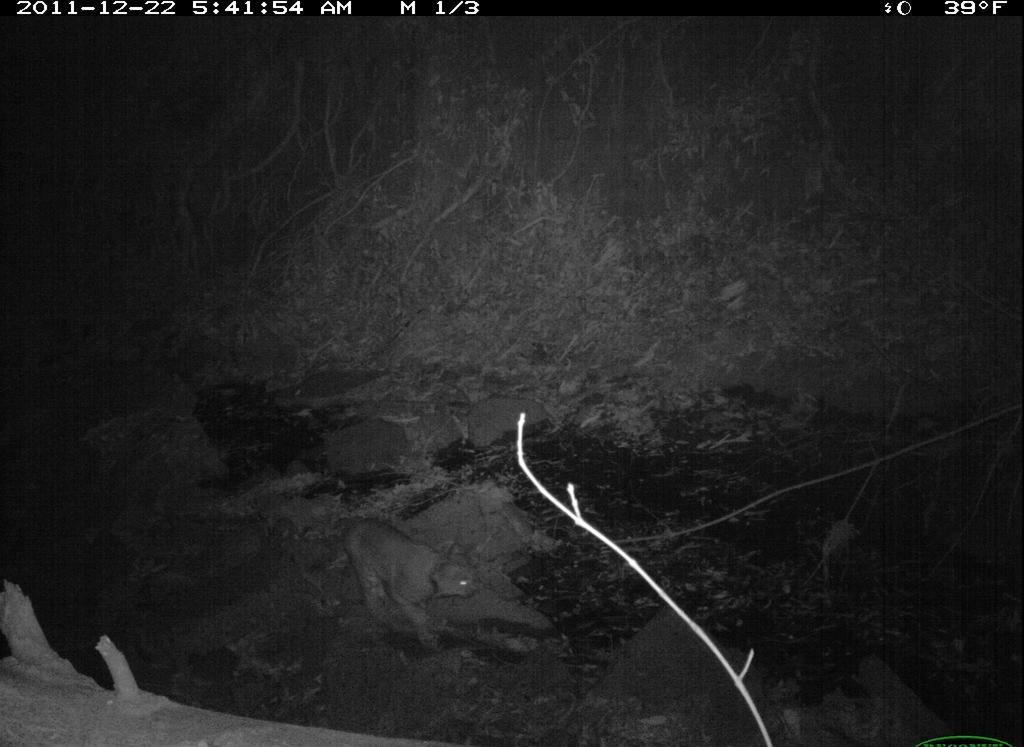bobcat: (310, 500, 492, 658)
